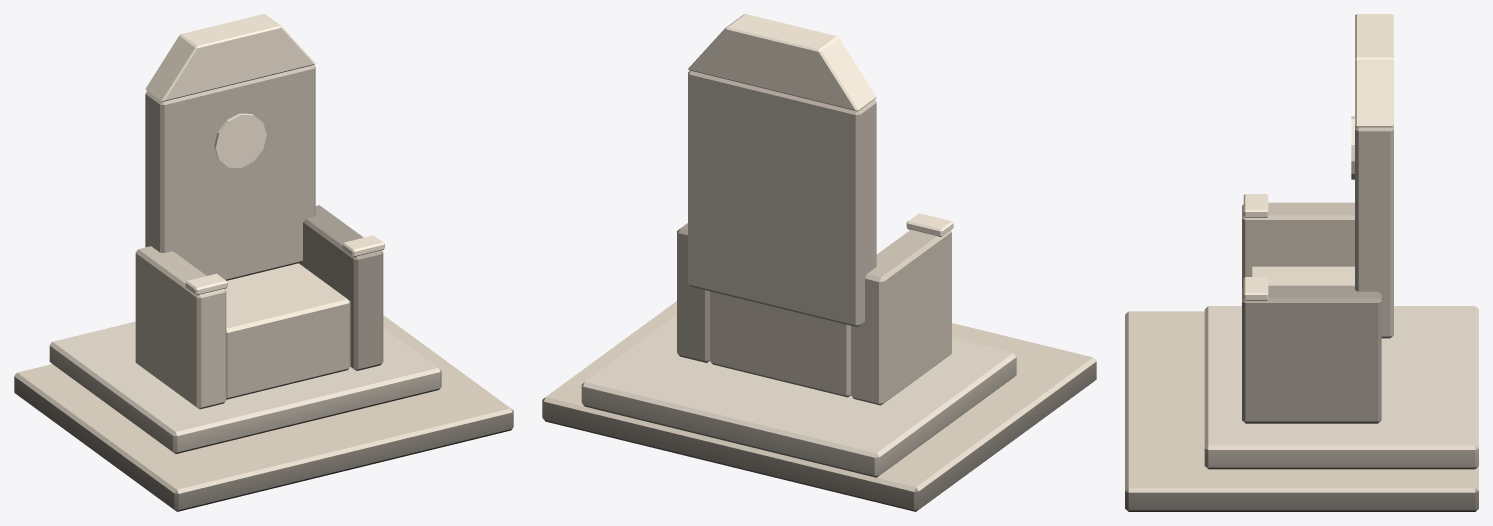
File: SM_VKI_Prop_Throne_Dwarf.fbx
The picture shows the model from 3 angles, left to right: view 1: azimuth 30°, elevation 25°; view 2: azimuth 150°, elevation 25°; view 3: azimuth 270°, elevation 25°; orthographic projection. The views are drawn at different scales.
Visible parts, largest first — view 1: SM_VKI_Prop_Throne_Dwarf.001; view 2: SM_VKI_Prop_Throne_Dwarf.001; view 3: SM_VKI_Prop_Throne_Dwarf.001.
Part boxes in pixels (x1,y1,x2,y2): SM_VKI_Prop_Throne_Dwarf.001: [14, 14, 513, 511]; SM_VKI_Prop_Throne_Dwarf.001: [542, 14, 1096, 511]; SM_VKI_Prop_Throne_Dwarf.001: [1125, 14, 1478, 511].
Size of the model in its own units: 2.4 by 2.42 by 2.
